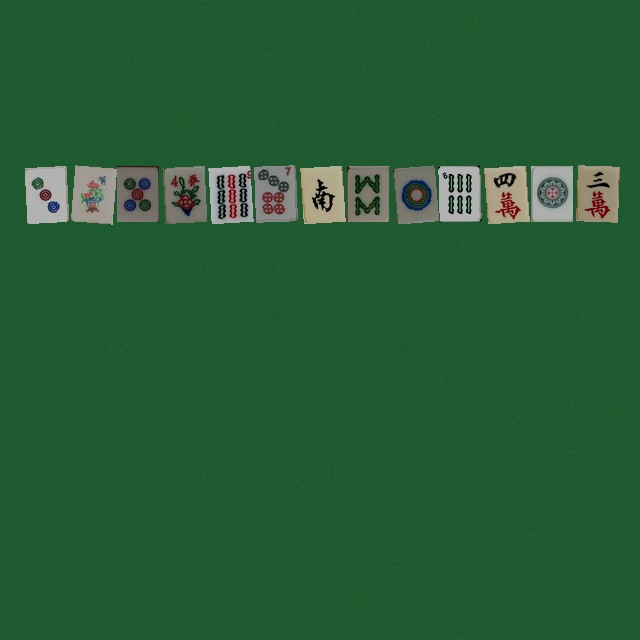tile: (24, 165, 66, 221), (70, 165, 112, 221), (116, 165, 158, 221), (162, 165, 204, 221), (208, 165, 250, 221), (254, 165, 296, 221), (300, 165, 342, 221), (346, 165, 388, 221), (392, 165, 434, 221), (438, 165, 480, 221), (484, 165, 526, 221), (530, 165, 572, 221), (576, 165, 618, 221)
